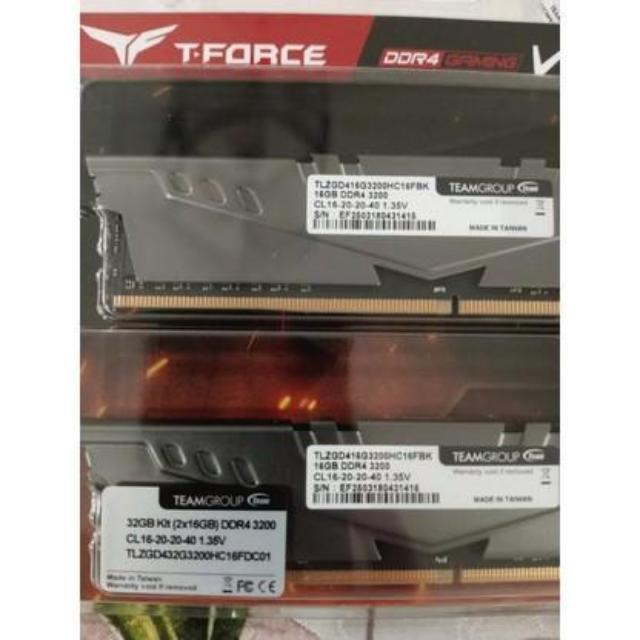RAM: (82, 110, 564, 342), (64, 410, 562, 590)
